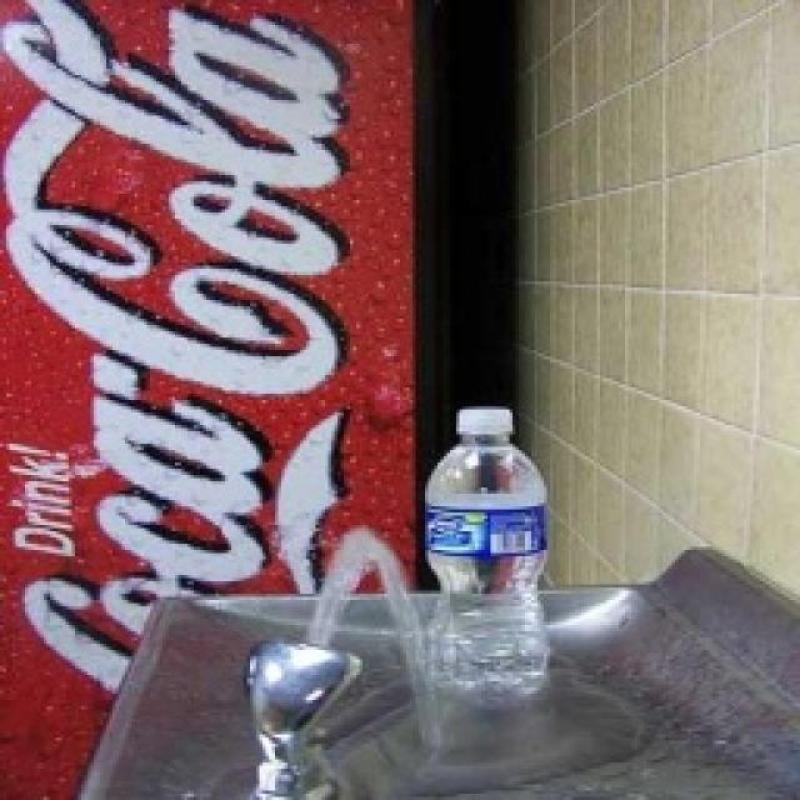botella: (426, 409, 552, 706)
